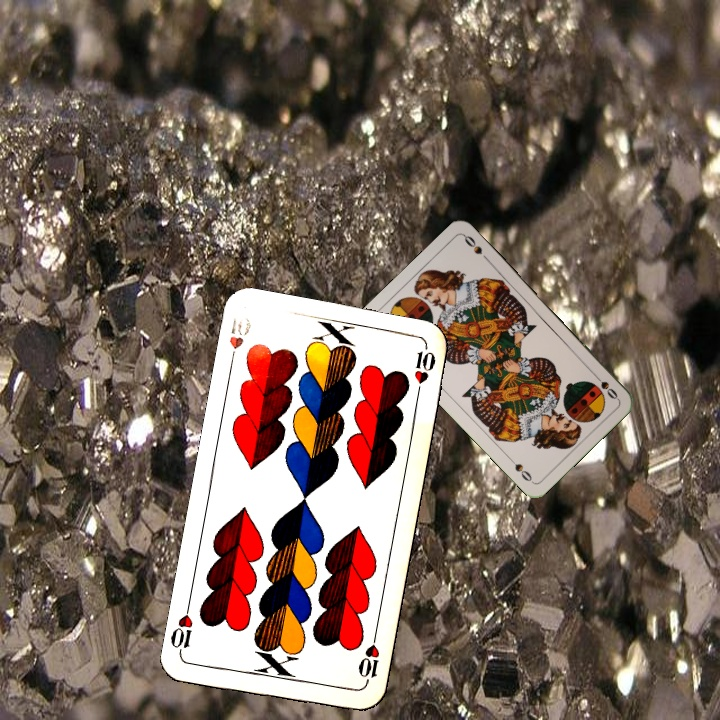H10: (354, 630, 382, 689), (225, 313, 254, 369)
SO: (589, 369, 620, 402)
